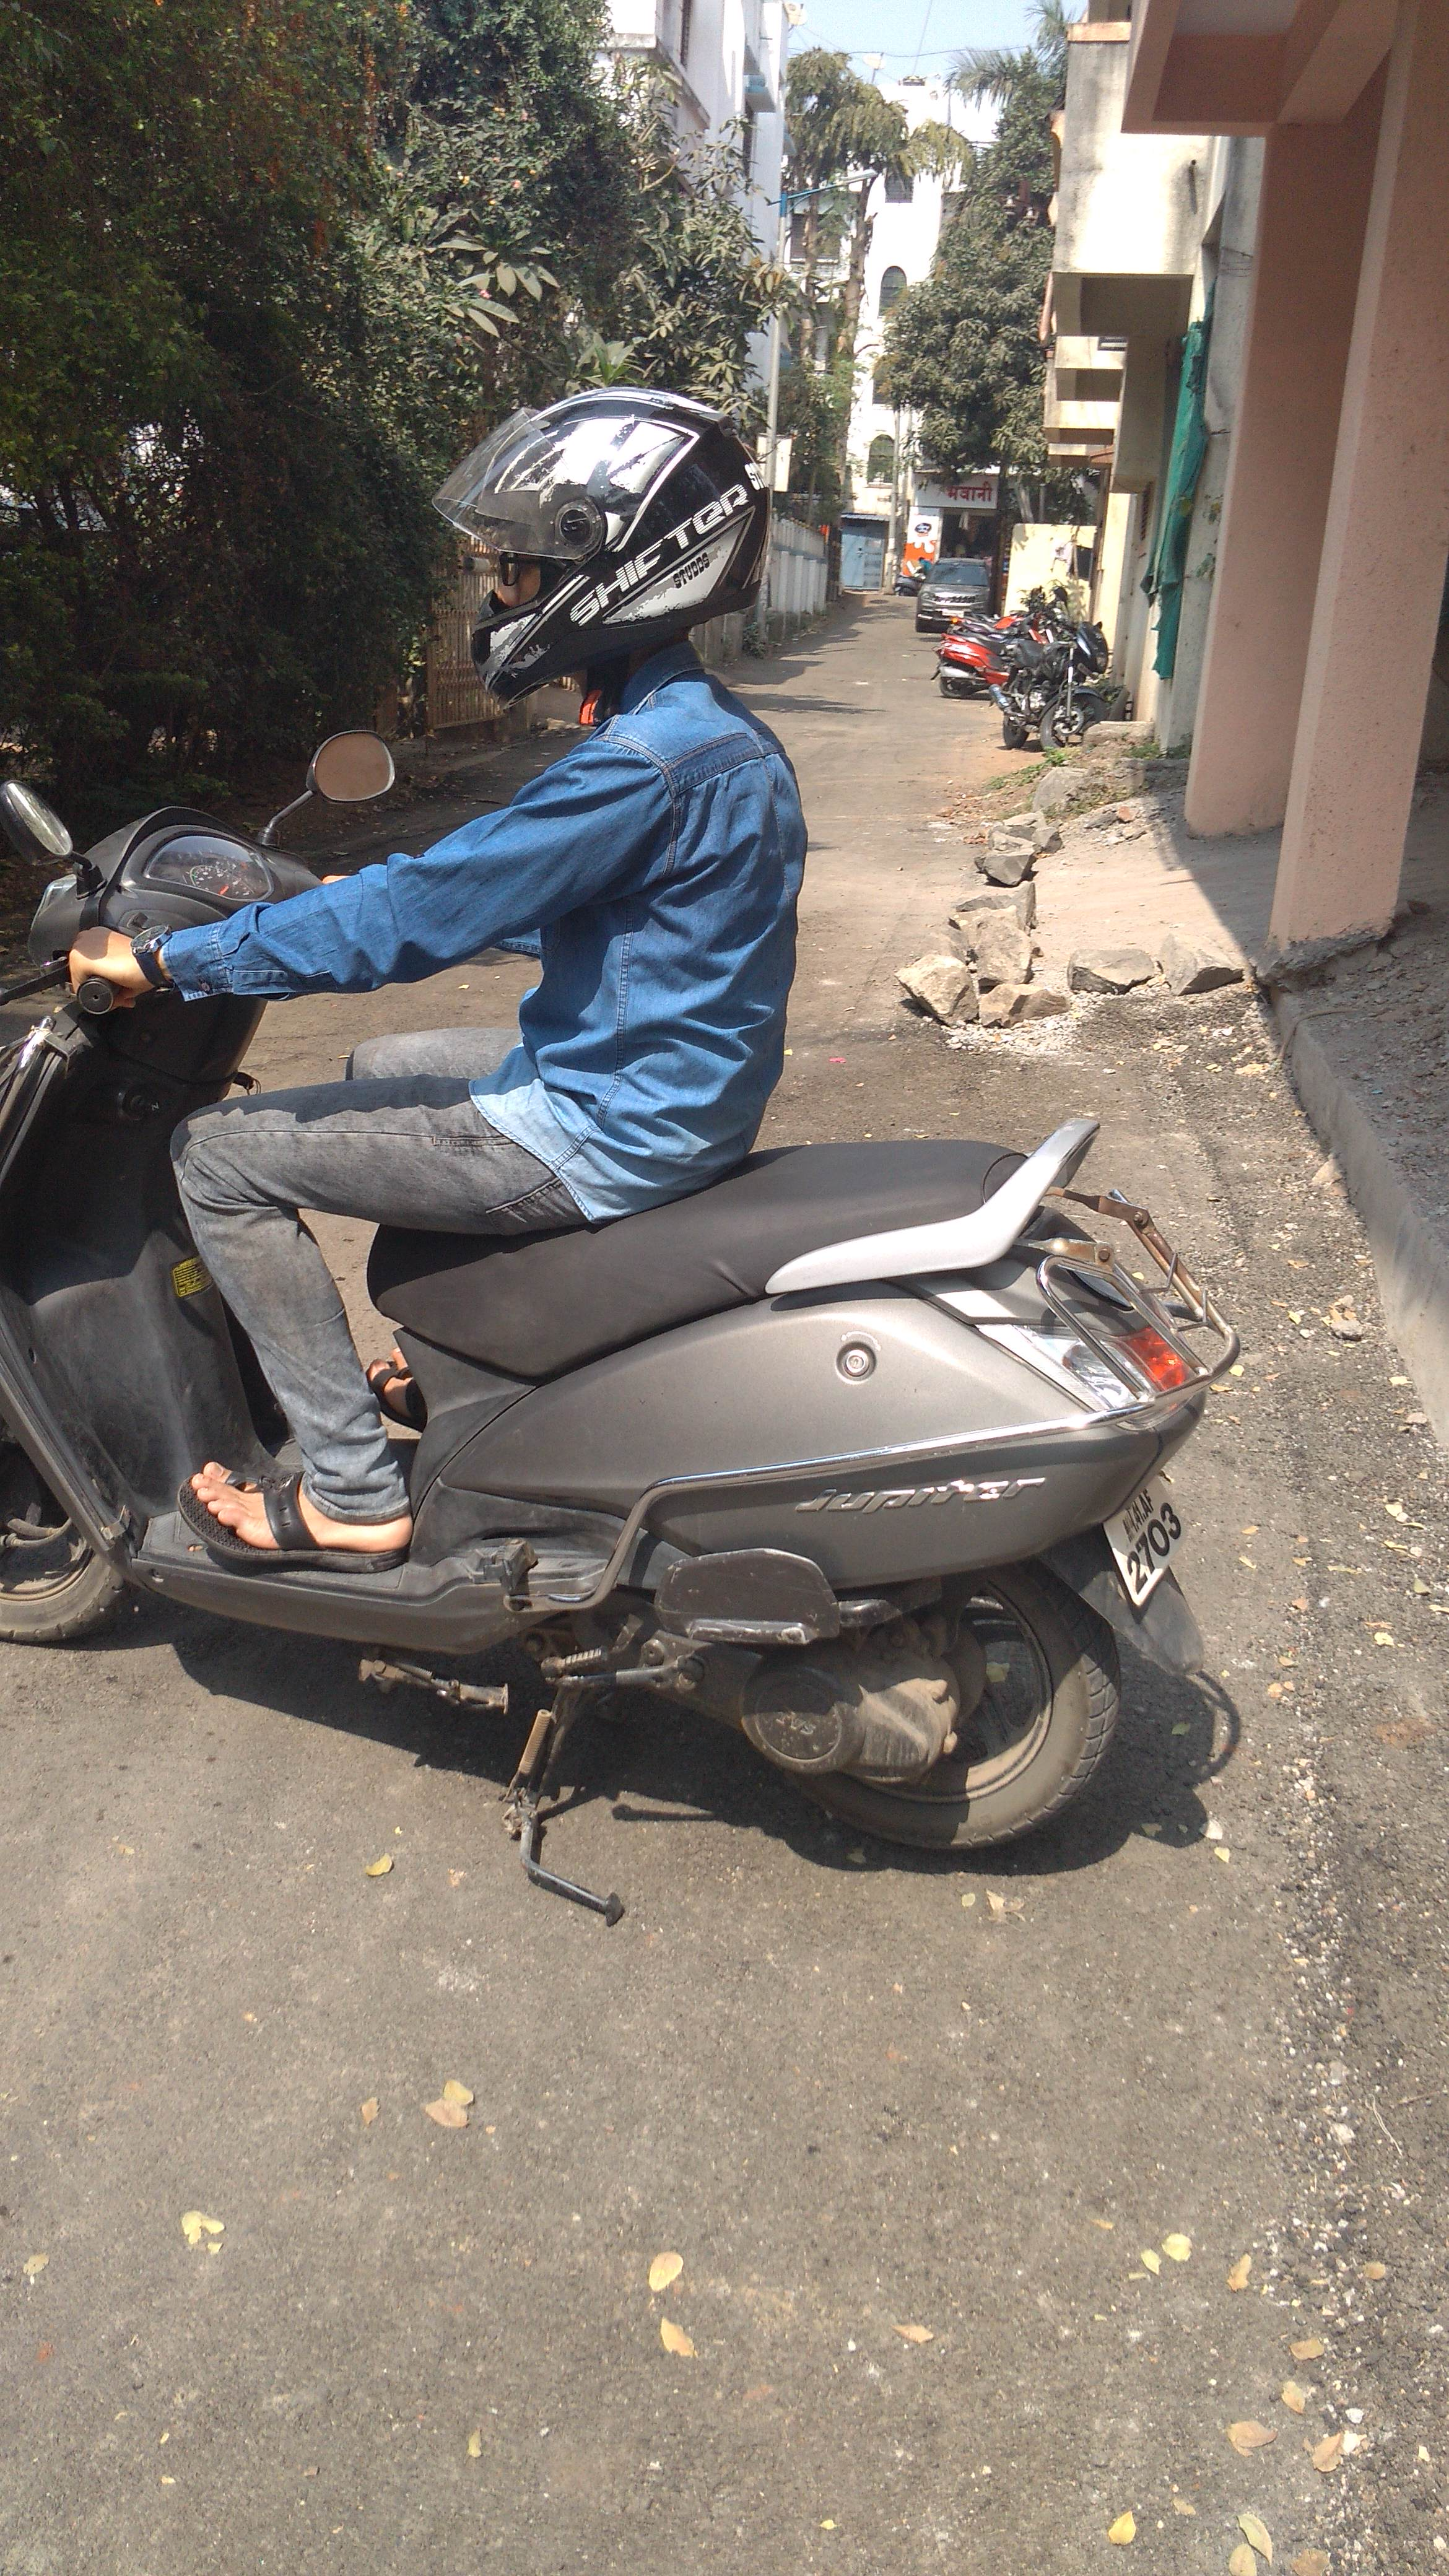helmet: (324, 387, 872, 1304)
